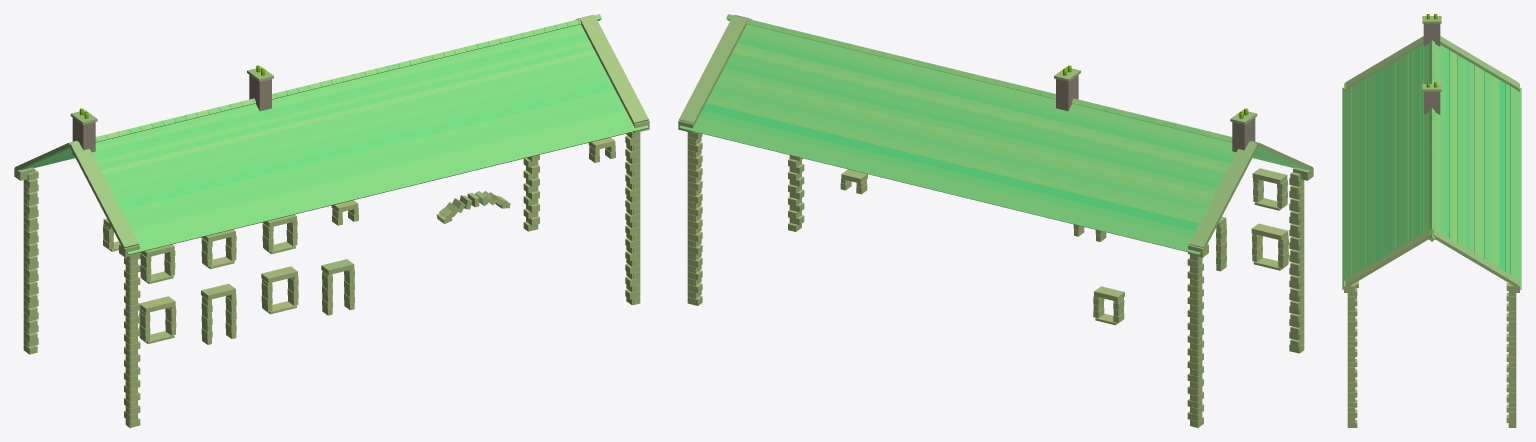
Rendered from SM_Bld_092_Stone.glb.
3 views of the same model, side by side, from view 1: azimuth 30°, elevation 25°; view 2: azimuth 150°, elevation 25°; view 3: azimuth 270°, elevation 25° (orthographic). The views are drawn at different scales.
Visible parts, largest first — view 1: SM_Bld_092_Stone; view 2: SM_Bld_092_Stone; view 3: SM_Bld_092_Stone.
Boxes of the visible parts, <box> form: SM_Bld_092_Stone: <box>14,14,649,427</box>; SM_Bld_092_Stone: <box>678,14,1313,427</box>; SM_Bld_092_Stone: <box>1342,14,1521,427</box>.
Size of the model in its own units: 26 by 12.94 by 9.61.
